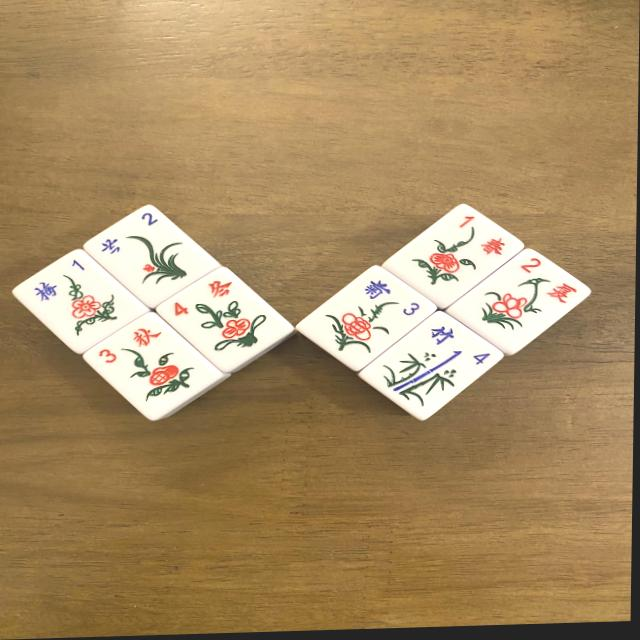1F: (7, 245, 145, 359)
1S: (383, 205, 524, 317)
2F: (96, 208, 200, 287)
2S: (445, 243, 590, 358)
3F: (299, 258, 439, 372)
3S: (80, 307, 223, 423)
4F: (358, 306, 505, 425)
4S: (154, 263, 295, 379)
